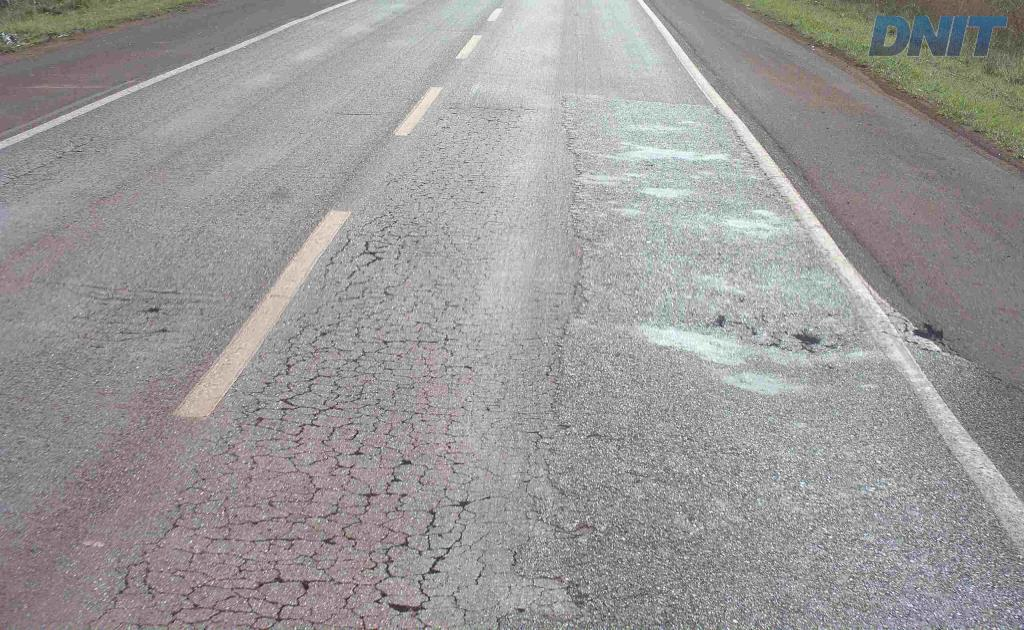pothole: (783, 325, 827, 346), (706, 305, 734, 330)
